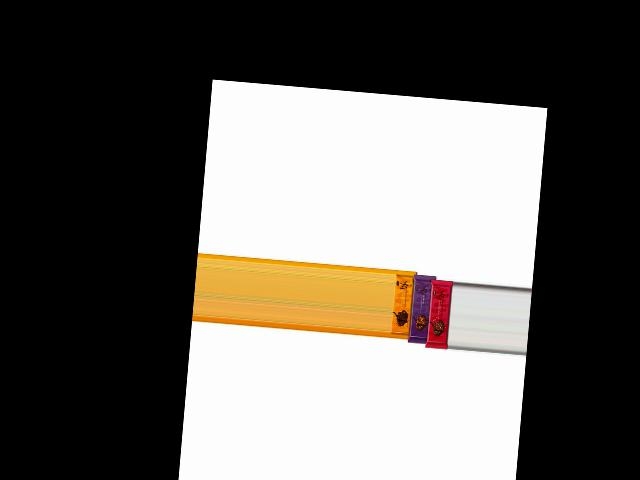chocolate: (425, 276, 454, 353)
